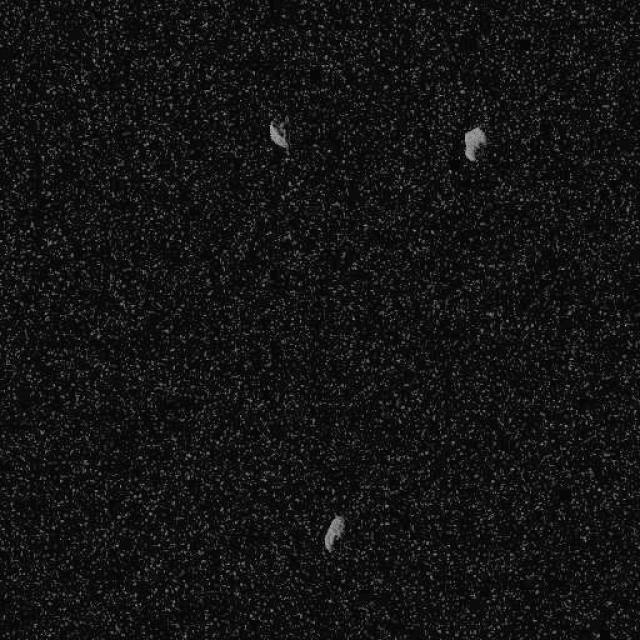D2: (462, 125, 487, 163), (323, 514, 345, 552), (268, 119, 288, 151)
